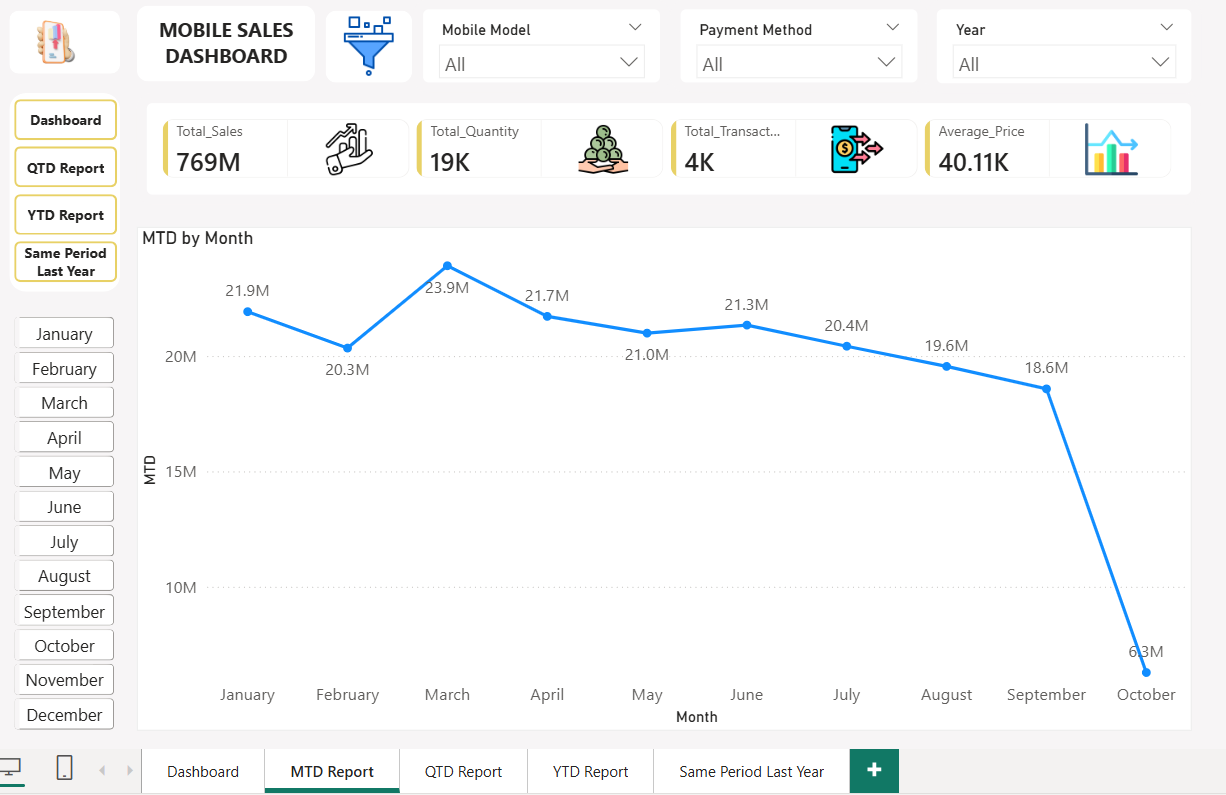

Layout of this report page (visuals, bound fields, positions):
{"tool":"powerbi","page":{"name":"MTD Report","canvas":[1280,720],"ordinal":1},"visuals":[{"type":"shape","box":[11,16.5,105.7,60.4],"z":0},{"type":"image","box":[17.8,23.3,75.5,45.3],"z":1000},{"type":"shape","box":[11,94.7,105.7,189.4],"z":2000},{"type":"cardVisual","fields":{"Data":["fact_sales_data.Total_Sales","fact_sales_data.Total_Quantity","fact_sales_data.Total_Transactions","fact_sales_data.Average_Price"]},"box":[132.5,95,1013.8,106.2],"z":3000},{"type":"slicer","fields":{"Values":["fact_sales_data.Mobile Model"]},"box":[395,6.2,245,88.8],"z":4000},{"type":"slicer","fields":{"Values":["fact_sales_data.Payment Method"]},"box":[640,6.2,245,88.8],"z":5000},{"type":"slicer","fields":{"Values":["dim_calendar.Date.Variation.Date Hierarchy.Year"]},"box":[884.5,6,261.9,89.3],"z":6000},{"type":"shape","box":[312.5,16.2,82.5,68.8],"z":7000},{"type":"image","box":[312.5,21.2,82.5,58.8],"z":8000},{"type":"shape","box":[132.5,12.5,170,72.5],"z":9000},{"type":"textbox","box":[142.5,16.2,148.8,63.8],"z":10000},{"type":"lineChart","fields":{"Category":["dim_calendar.Date.Variation.Date Hierarchy.Year","dim_calendar.Date.Variation.Date Hierarchy.Quarter","dim_calendar.Date.Variation.Date Hierarchy.Month","dim_calendar.Date.Variation.Date Hierarchy.Day"],"Y":["fact_sales_data.MTD"]},"box":[132.1,222.6,1004.8,479.8],"z":11000},{"type":"advancedSlicerVisual","fields":{"Values":["dim_calendar.Date.Variation.Date Hierarchy.Month"]},"box":[11,303.3,105.7,404.8],"z":12000},{"type":"pageNavigator","box":[15,101.2,98.8,175],"z":12001}]}

Visuals, with their boxes on the page's 1280x720 design canvas (x1, y1, x2, y2). These are canvas units, not pixel positions in the 1226x795 screenshot, which may show the page scaled, cropped or inside an application window:
shape: <region>11, 16, 117, 77</region>
image: <region>18, 23, 93, 69</region>
shape: <region>11, 95, 117, 284</region>
cardVisual - fact_sales_data.Total_Sales x fact_sales_data.Total_Quantity: <region>132, 95, 1146, 201</region>
slicer - fact_sales_data.Mobile Model: <region>395, 6, 640, 95</region>
slicer - fact_sales_data.Payment Method: <region>640, 6, 885, 95</region>
slicer - dim_calendar.Date.Variation.Date Hierarchy.Year: <region>884, 6, 1146, 95</region>
shape: <region>312, 16, 395, 85</region>
image: <region>312, 21, 395, 80</region>
shape: <region>132, 12, 302, 85</region>
textbox: <region>142, 16, 291, 80</region>
lineChart - dim_calendar.Date.Variation.Date Hierarchy.Year x dim_calendar.Date.Variation.Date Hierarchy.Quarter: <region>132, 223, 1137, 702</region>
advancedSlicerVisual - dim_calendar.Date.Variation.Date Hierarchy.Month: <region>11, 303, 117, 708</region>
pageNavigator: <region>15, 101, 114, 276</region>
